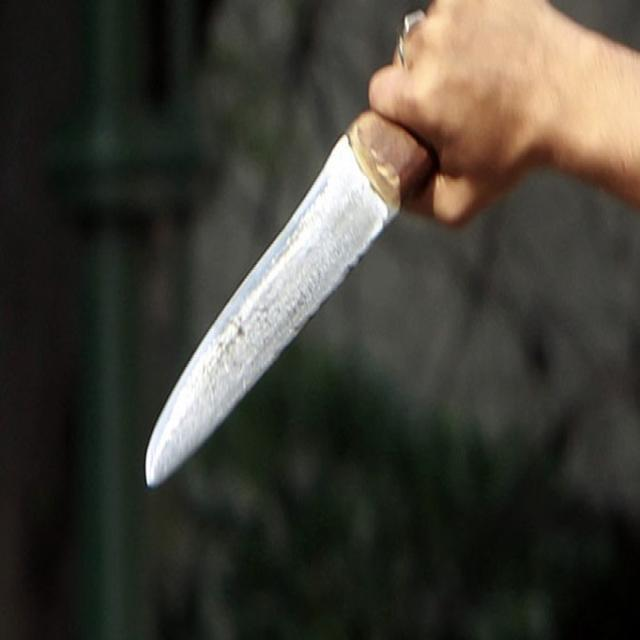knife: (140, 110, 434, 505)
